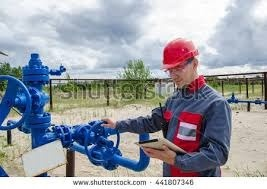helmet: (160, 37, 199, 71)
person with partial safety: (144, 36, 230, 177)
